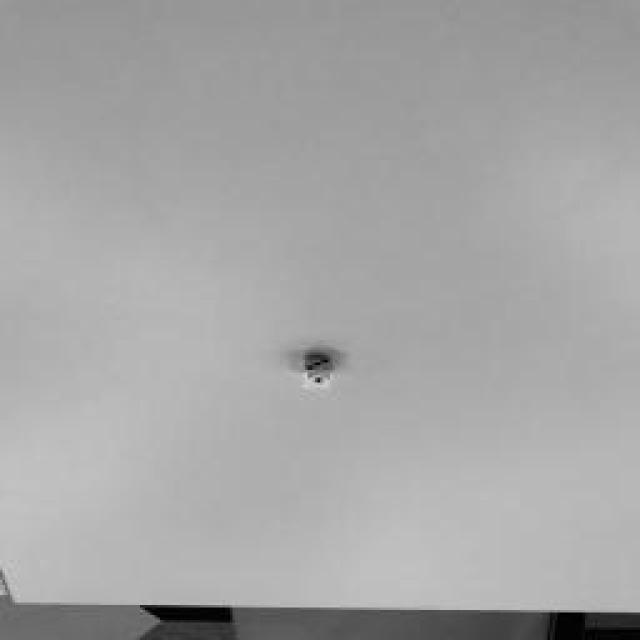dice_1: (304, 372, 331, 388)
